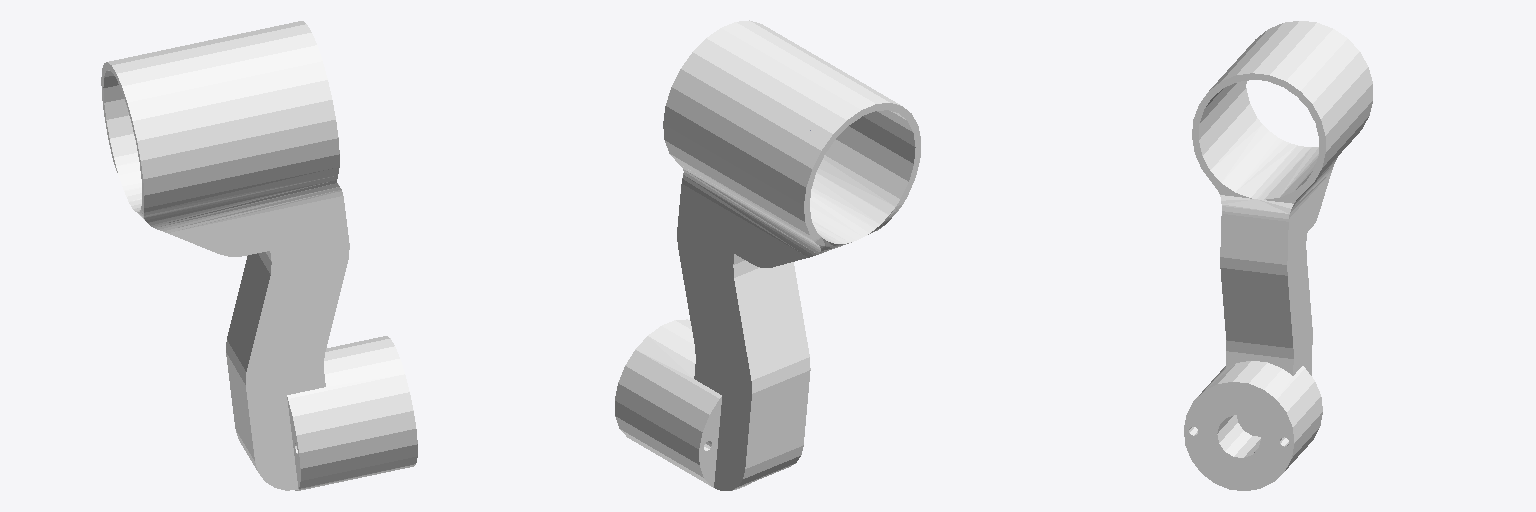
robot.urdf — robot_ver1:
<?xml version="1.0" encoding="utf-8"?>
<!-- This URDF was automatically created by SolidWorks to URDF Exporter! Originally created by Stephen Brawner (brawner@gmail.com) 
     Commit Version: 1.6.0-4-g7f85cfe  Build Version: 1.6.7995.38578
     For more information, please see http://wiki.ros.org/sw_urdf_exporter -->
<robot
  name="robot_ver1">
  <link
    name="Base_Link">
    <inertial>
      <origin
        xyz="0.019014 0.084231 0.157204"
        rpy="0 0 0" />
      <mass
        value="4.000" />
      <inertia
        ixx="0.083300383493810"
        ixy="-0.009690760751949"
        ixz="0.000134894085282"
        iyy="0.042615866299863"
        iyz="-0.000807819899129"
        izz="0.077791810729023" />
    </inertial>
    <visual>
      <origin
        xyz="0 0 0"
        rpy="0 0 0" />
      <geometry>
        <mesh
          filename="package://robot_ver1/meshes/Base_Link.STL" />
      </geometry>
      <material
        name="">
        <color
          rgba="0.79216 0.81961 0.93333 1" />
      </material>
    </visual>
    <collision>
      <origin
        xyz="0 0 0"
        rpy="0 0 0" />
      <geometry>
        <mesh
          filename="package://robot_ver1/meshes/Base_Link.STL" />
      </geometry>
    </collision>
  </link>
  <link
    name="Link_1">
    <inertial>
      <origin
        xyz="-0.106451 -0.056736 0.101055148"
        rpy="0 0 0" />
      <mass
        value="2.200" />
      <inertia
        ixx="0.018750698642421"
        ixy="-0.006955004483746"
        ixz="0.004506874542284"
        iyy="0.014482698642421"
        iyz="0.002532529082077"
        izz="0.024953768389588" />
    </inertial>
    <visual>
      <origin
        xyz="0 0 0"
        rpy="0 0 0" />
      <geometry>
        <mesh
          filename="package://robot_ver1/meshes/Link_1.STL" />
      </geometry>
      <material
        name="">
        <color
          rgba="0.79216 0.81961 0.93333 1" />
      </material>
    </visual>
    <collision>
      <origin
        xyz="0 0 0"
        rpy="0 0 0" />
      <geometry>
        <mesh
          filename="package://robot_ver1/meshes/Link_1.STL" />
      </geometry>
    </collision>
  </link>
  <joint
    name="Joint_1"
    type="revolute">
    <origin
      xyz="0 0 0.244972851966298"
      rpy="0 0 0" />
    <parent
      link="Base_Link" />
    <child
      link="Link_1" />
    <axis
      xyz="0 0 1" />
    <limit
      lower="0"
      upper="0"
      effort="0"
      velocity="0" />
  </joint>
  <link
    name="Link_2">
    <inertial>
      <origin
        xyz="0.007556557 -0.323779148 -0.034318388"
        rpy="0 0 0" />
      <mass
        value="3.500" />
      <inertia
        ixx="0.100855169714518"
        ixy="-0.000541360713197"
        ixz="-0.000736745555217"
        iyy="0.029141985319516"
        iyz="-0.026839527938637"
        izz="0.079335186630093" />
    </inertial>
    <visual>
      <origin
        xyz="0 0 0"
        rpy="0 0 0" />
      <geometry>
        <mesh
          filename="package://robot_ver1/meshes/Link_2.STL" />
      </geometry>
      <material
        name="">
        <color
          rgba="0.79216 0.81961 0.93333 1" />
      </material>
    </visual>
    <collision>
      <origin
        xyz="0 0 0"
        rpy="0 0 0" />
      <geometry>
        <mesh
          filename="package://robot_ver1/meshes/Link_2.STL" />
      </geometry>
    </collision>
  </link>
  <joint
    name="Joint_2"
    type="revolute">
    <origin
      xyz="-0.103095709201523 0.051462605299745 0.122500000000013"
      rpy="-1.57079632679491 0 -0.277504644404437" />
    <parent
      link="Link_1" />
    <child
      link="Link_2" />
    <axis
      xyz="0 0 -1" />
    <limit
      lower="0"
      upper="0"
      effort="0"
      velocity="0" />
  </joint>
  <link
    name="Link_3">
    <inertial>
      <origin
        xyz="-0.182291207 -0.065672927 0.003309351"
        rpy="0 0 0" />
      <mass
        value="2.350" />
      <inertia
        ixx="0.005502104072070"
        ixy="-0.004695656408395"
        ixz="-0.002023265007920"
        iyy="0.017624423356653"
        iyz="-0.001539982979145"
        izz="0.019910268294615" />
    </inertial>
    <visual>
      <origin
        xyz="0 0 0"
        rpy="0 0 0" />
      <geometry>
        <mesh
          filename="package://robot_ver1/meshes/Link_3.STL" />
      </geometry>
      <material
        name="">
        <color
          rgba="0.79216 0.81961 0.93333 1" />
      </material>
    </visual>
    <collision>
      <origin
        xyz="0 0 0"
        rpy="0 0 0" />
      <geometry>
        <mesh
          filename="package://robot_ver1/meshes/Link_3.STL" />
      </geometry>
    </collision>
  </link>
  <joint
    name="Joint_3"
    type="revolute">
    <origin
      xyz="0.00179216233653649 -0.424996221341039 0.0319999999999885"
      rpy="0 0 0" />
    <parent
      link="Link_2" />
    <child
      link="Link_3" />
    <axis
      xyz="0 0 -1" />
    <limit
      lower="0"
      upper="0"
      effort="0"
      velocity="0" />
  </joint>
  <link
    name="Wrist_1">
    <inertial>
      <origin
        xyz="-0.066487521 0.010831776 -0.091501332"
        rpy="0 0 0" />
      <mass
        value="0.575" />
      <inertia
        ixx="0.000390875617420"
        ixy="0.000020665893054"
        ixz="-0.000234483224917"
        iyy="0.001583278285557"
        iyz="0.000036951515987"
        izz="0.001382169277839" />
    </inertial>
    <visual>
      <origin
        xyz="0 0 0"
        rpy="0 0 0" />
      <geometry>
        <mesh
          filename="package://robot_ver1/meshes/Wrist_1.STL" />
      </geometry>
      <material
        name="">
        <color
          rgba="0.79216 0.81961 0.93333 1" />
      </material>
    </visual>
    <collision>
      <origin
        xyz="0 0 0"
        rpy="0 0 0" />
      <geometry>
        <mesh
          filename="package://robot_ver1/meshes/Wrist_1.STL" />
      </geometry>
    </collision>
  </link>
  <joint
    name="Joint_4"
    type="revolute">
    <origin
      xyz="-0.323687963380705 -0.0880710354424865 -0.0149999999999932"
      rpy="-3.02546488885724 -1.57079631189374 -0.229205282482085" />
    <parent
      link="Link_3" />
    <child
      link="Wrist_1" />
    <axis
      xyz="0 0 -1" />
    <limit
      lower="0"
      upper="0"
      effort="0"
      velocity="0" />
  </joint>
  <link
    name="Wrist_2">
    <inertial>
      <origin
        xyz="0.069619270 -0.003019655 0.095127911"
        rpy="0 0 0" />
      <mass
        value="0.575" />
      <inertia
        ixx="0.000408850231533"
        ixy="-0.000146149911797"
        ixz="-0.000232875887541"
        iyy="0.001571028947078"
        iyz="-0.000034819514884"
        izz="0.001376444128997" />
    </inertial>
    <visual>
      <origin
        xyz="0 0 0"
        rpy="0 0 0" />
      <geometry>
        <mesh
          filename="package://robot_ver1/meshes/Wrist_2.STL" />
      </geometry>
      <material
        name="">
        <color
          rgba="0.79216 0.81961 0.93333 1" />
      </material>
    </visual>
    <collision>
      <origin
        xyz="0 0 0"
        rpy="0 0 0" />
      <geometry>
        <mesh
          filename="package://robot_ver1/meshes/Wrist_2.STL" />
      </geometry>
    </collision>
  </link>
  <joint
    name="Joint_5"
    type="revolute">
    <origin
      xyz="0.0330000000000005 0 -0.100499999999999"
      rpy="3.14159265358979 -1.5707963267949 0" />
    <parent
      link="Wrist_1" />
    <child
      link="Wrist_2" />
    <axis
      xyz="0 0 -1" />
    <limit
      lower="0"
      upper="0"
      effort="0"
      velocity="0" />
  </joint>
  <link
    name="End_Effector">
    <!-- The COM comes from the corrected Inventor conversion. The user-supplied
         mass is 0.300 kg; its COM inertia is scaled by 0.300/0.183. -->
    <inertial>
      <origin
        xyz="-0.048946282 -0.059068151 -0.077557237"
        rpy="0 0 0" />
      <mass
        value="0.300" />
      <inertia
        ixx="0.000396719978944"
        ixy="0.000013490534120"
        ixz="0.000004279170339"
        iyy="0.000059726463615"
        iyz="-0.000010178183054"
        izz="0.000384368311539" />
    </inertial>
    <visual>
      <origin
        xyz="0 0 0"
        rpy="0 0 0" />
      <geometry>
        <mesh
          filename="package://robot_ver1/meshes/End_Effector.STL" />
      </geometry>
      <material
        name="">
        <color
          rgba="1 1 1 1" />
      </material>
    </visual>
    <collision>
      <origin
        xyz="0 0 0"
        rpy="0 0 0" />
      <geometry>
        <mesh
          filename="package://robot_ver1/meshes/End_Effector.STL" />
      </geometry>
    </collision>
  </link>
  <joint
    name="Joint_6"
    type="revolute">
    <origin
      xyz="-0.033 0 -0.1005"
      rpy="0 1.5708 0" />
    <parent
      link="Wrist_2" />
    <child
      link="End_Effector" />
    <axis
      xyz="0 0 -1" />
    <limit
      lower="0"
      upper="0"
      effort="0"
      velocity="0" />
  </joint>
</robot>

--- Render facts (derived) ---
3 views of the same robot in one strip: view 1: azimuth 30°, elevation 25°; view 2: azimuth 150°, elevation 25°; view 3: azimuth 270°, elevation 25° (orthographic).
Robot: robot_ver1 — 7 links, 6 joints (6 revolute); root link Base_Link; default pose: every joint at zero.
Links seen in each view (by area): view 1: End_Effector; view 2: End_Effector; view 3: End_Effector.
Link boxes in pixels (<box>): End_Effector: <box>101,21,417,490</box>; End_Effector: <box>615,20,920,490</box>; End_Effector: <box>1184,21,1372,490</box>.
Size in the robot's own frame: 78.52 by 55.15 by 124 metres.
4 mesh visuals loaded from 7 distinct referenced files (4 binary STL); not drawn: 3 (reference not matched to a file when rendering).
